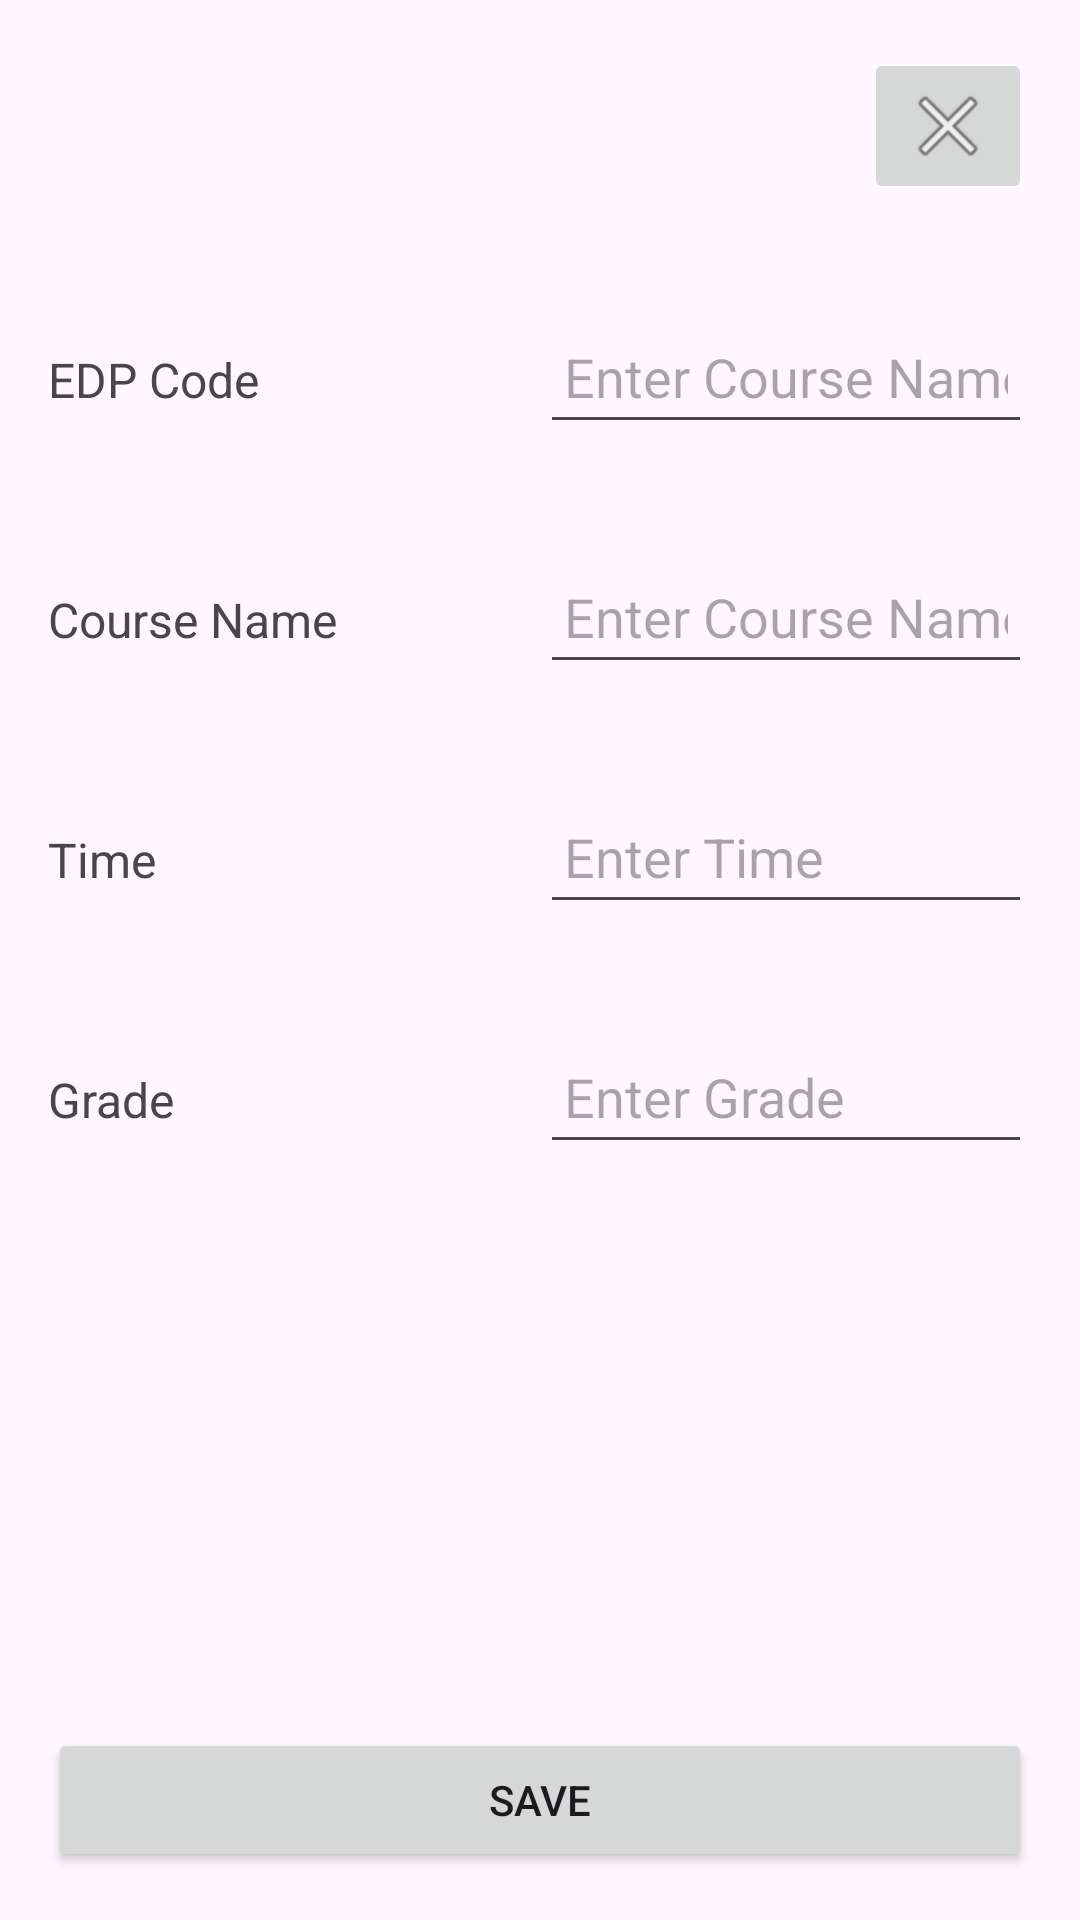

Icon click points for this 1080px x 1920px phone screenshot, format [x,y]:
close clear cancel: [948,126]
